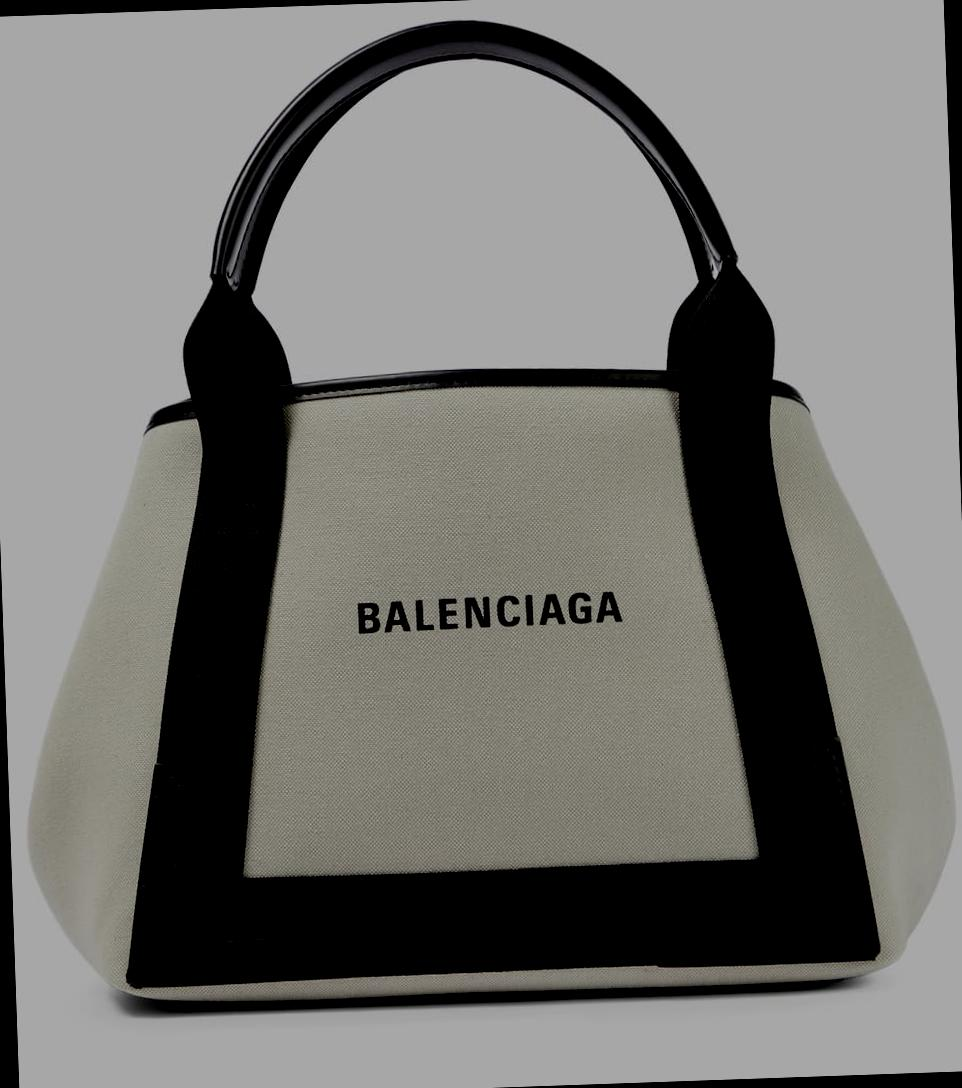BALENCIAGA: (358, 591, 622, 634)
